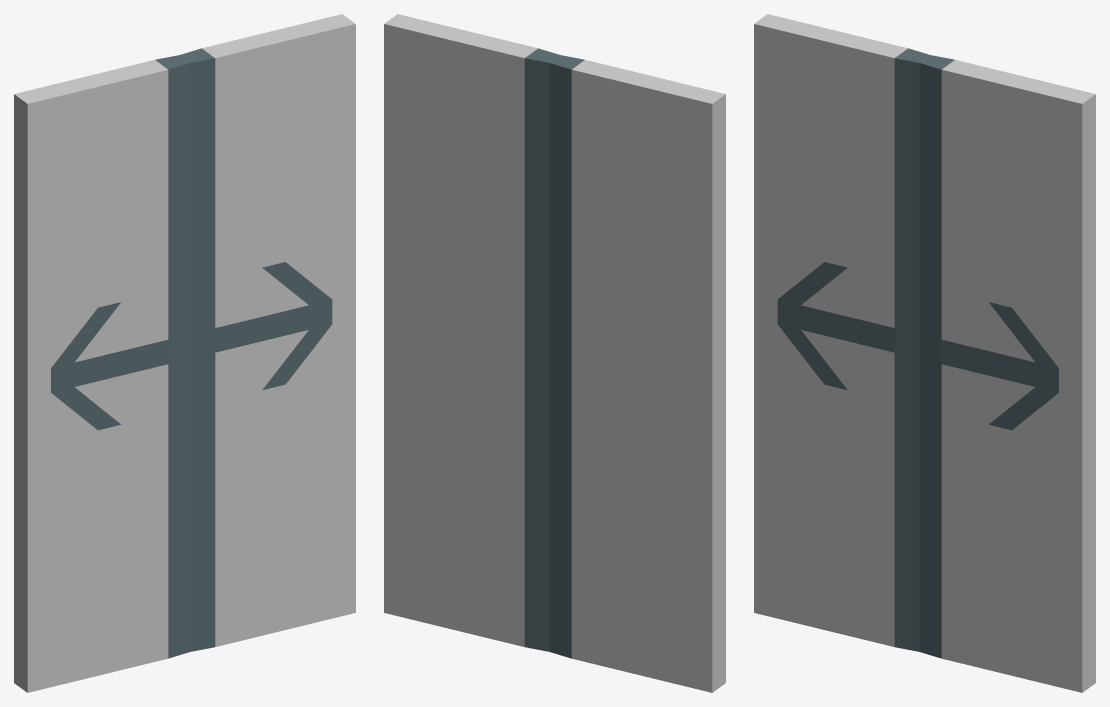
Rendered from scifi_door_1.fbx.
The picture shows the model from 3 angles, left to right: view 1: azimuth 30°, elevation 25°; view 2: azimuth 150°, elevation 25°; view 3: azimuth 330°, elevation 25°; orthographic projection.
Parts seen in each view (by area): view 1: Cube.056, Cube.055; view 2: Cube.056, Cube.055; view 3: Cube.055, Cube.056.
Part boxes in pixels (x1,y1,x2,y2): Cube.056: (14,55,190,692); Cube.055: (180,14,355,651); Cube.056: (549,55,725,692); Cube.055: (384,14,559,651); Cube.055: (919,55,1095,692); Cube.056: (754,14,929,651).
Size of the model in its own units: 1.4 by 2.4 by 0.1.
